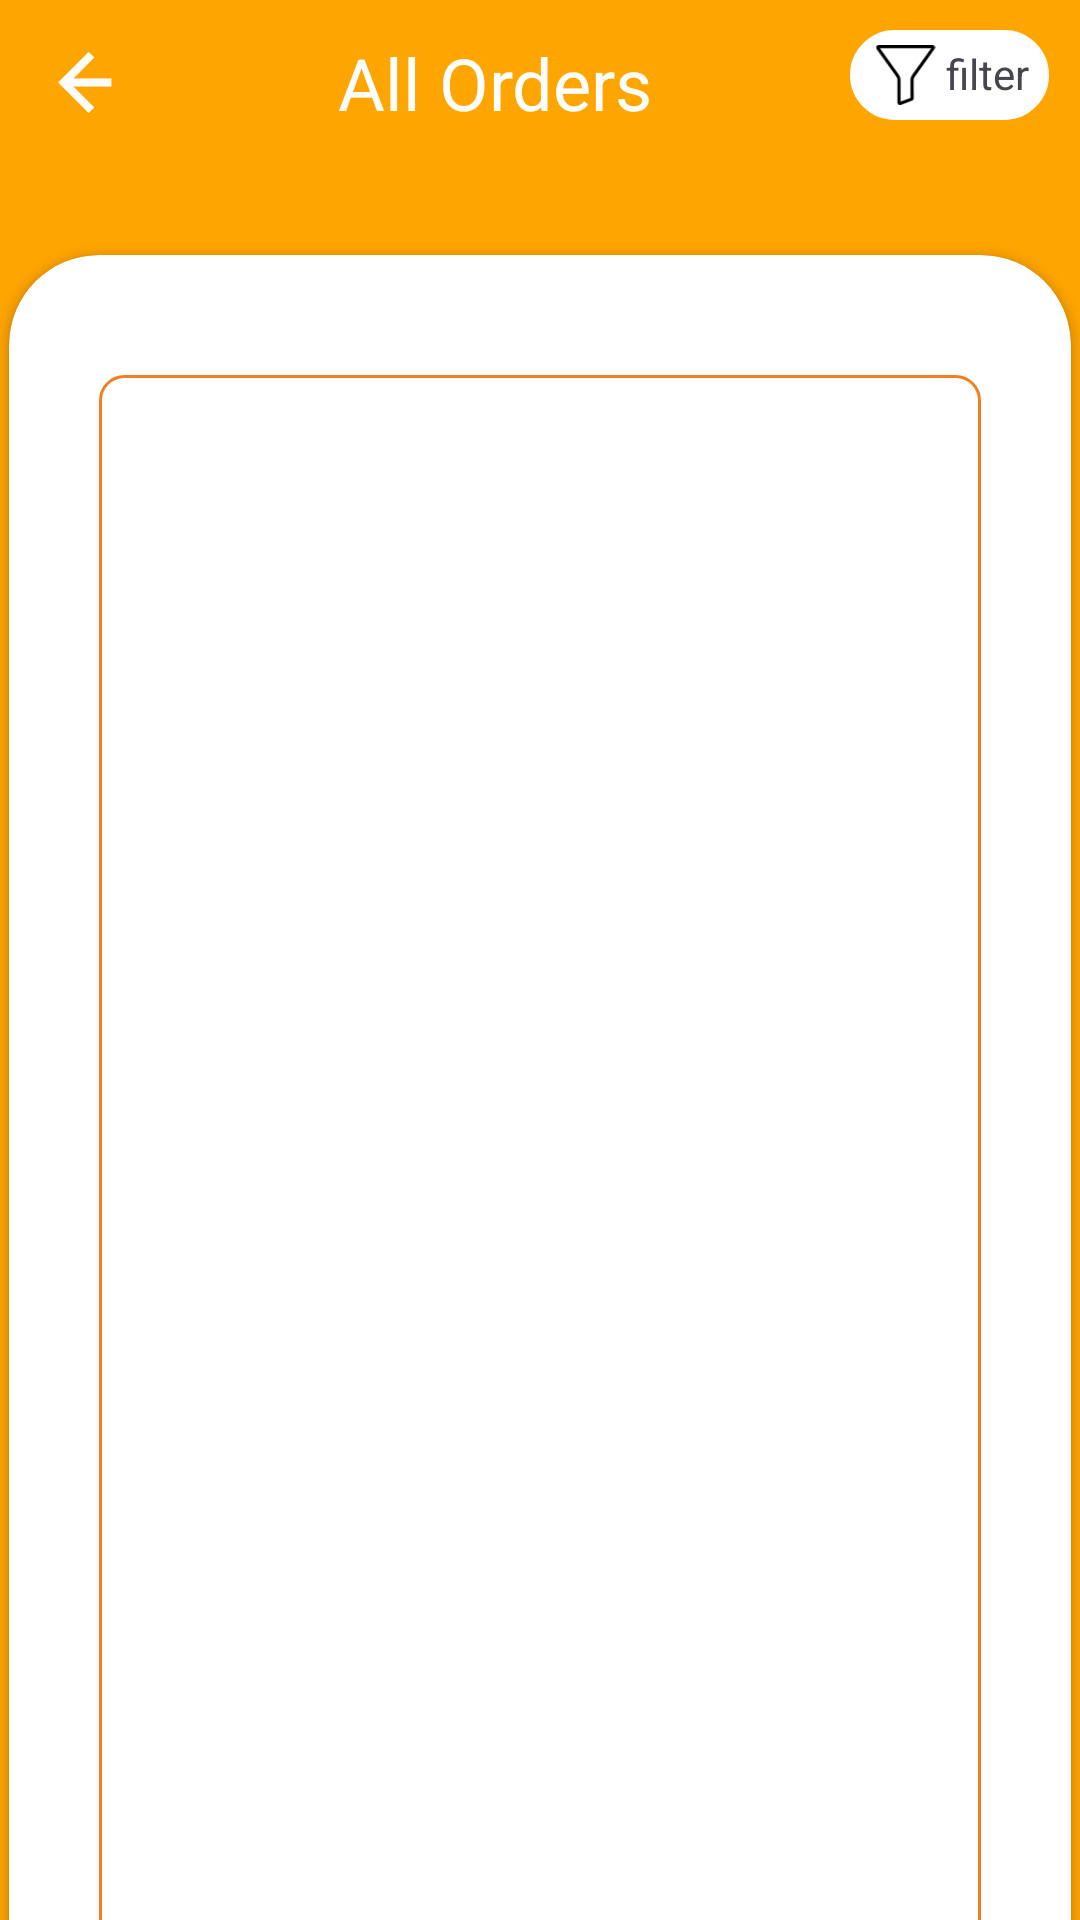

Icon click points for this 1080×1920 phone screenshot, format point (x, y):
previous errow: point (85, 82)
